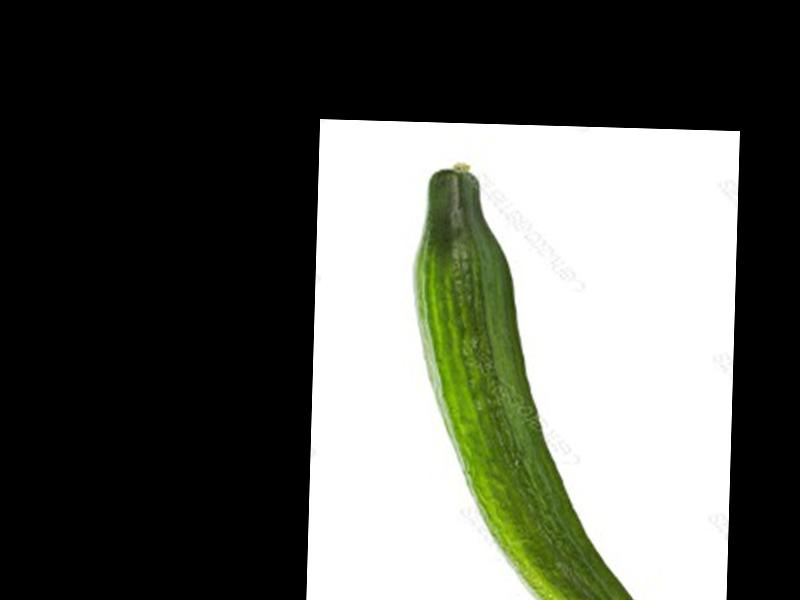Cucumber: (403, 161, 654, 600)
